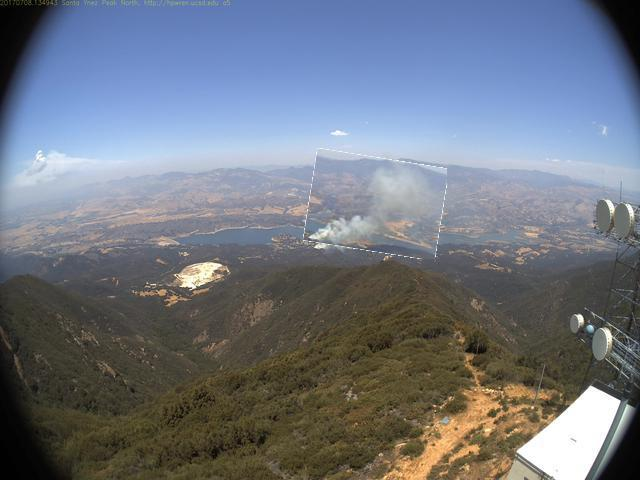smoke: (307, 154, 446, 257)
